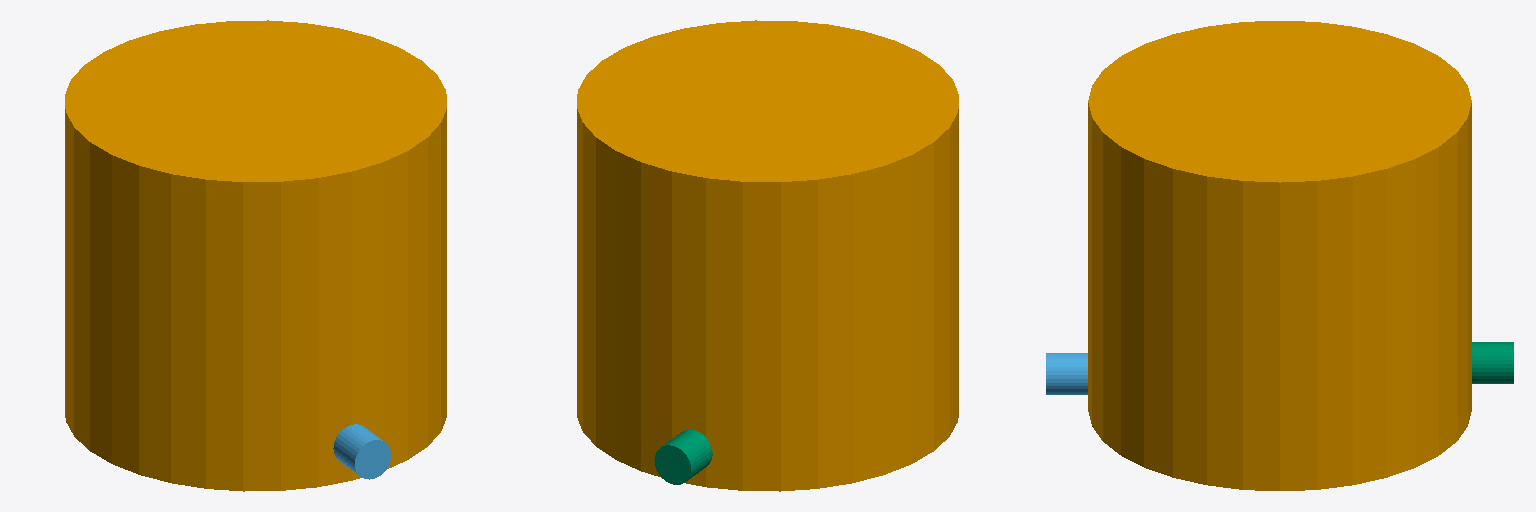
robot.urdf — [local-path]/Desktop/Robot.urdf:
<?xml version="1.0"?>
<robot name="[local-path]/Desktop/Robot.urdf" xmlns:xacro="http://ros.org/wiki/xacro">
  <link name="base_link">
    <visual>
      <origin xyz="0 0 0.415" rpy="0 0 0"/>
      <geometry>
        <cylinder radius="0.45" length="0.8"/>
      </geometry>
    </visual>
    <collision>
      <origin xyz="0 0 0.415" rpy="0 0 0"/>
      <geometry>
        <cylinder radius="0.45" length="0.8"/>
      </geometry>
    </collision>
  </link>
  <joint name="motor2" type="continuous">
    <parent link="base_link"/>
    <child link="solid(1)"/>
    <axis xyz="-0.000005 1 -0.000002"/>
    <limit effort="10" velocity="10"/>
    <origin xyz="0 -0.5 0.05" rpy="-1.885625 1.570791 2.826762"/>
  </joint>
  <link name="solid(1)">
    <visual>
      <origin xyz="-0.06 0 0" rpy="0 0 0"/>
      <geometry>
        <cylinder radius="0.05" length="0.1"/>
      </geometry>
    </visual>
    <collision>
      <origin xyz="-0.06 0 0" rpy="0 0 0"/>
      <geometry>
        <cylinder radius="0.05" length="0.1"/>
      </geometry>
    </collision>
  </link>
  <joint name="motor1" type="continuous">
    <parent link="base_link"/>
    <child link="solid"/>
    <axis xyz="-0.000005 1 -0.000002"/>
    <limit effort="10" velocity="10"/>
    <origin xyz="-0.06 0.5 0.05" rpy="-1.885625 1.570791 2.826762"/>
  </joint>
  <link name="solid">
    <visual>
      <origin xyz="-0.06 0 0" rpy="0 0 0"/>
      <geometry>
        <cylinder radius="0.05" length="0.1"/>
      </geometry>
    </visual>
    <collision>
      <origin xyz="-0.06 0 0" rpy="0 0 0"/>
      <geometry>
        <cylinder radius="0.05" length="0.1"/>
      </geometry>
    </collision>
  </link>
</robot>

--- Render facts (derived) ---
Views: 3 orthographic renders of the robot side by side, from view 1: azimuth 30°, elevation 25°; view 2: azimuth 150°, elevation 25°; view 3: azimuth 270°, elevation 25°.
Robot: [local-path]/Desktop/Robot.urdf — 3 links, 2 joints (2 continuous); root link base_link; default pose: every joint at zero.
Visible links, largest first — view 1: base_link, solid(1); view 2: base_link, solid; view 3: base_link, solid(1), solid.
Link boxes in pixels (x1,y1,x2,y2): base_link: [65, 20, 446, 491]; solid(1): [333, 424, 391, 479]; base_link: [577, 20, 958, 491]; solid: [654, 430, 712, 484]; base_link: [1088, 21, 1471, 490]; solid(1): [1046, 353, 1087, 394]; solid: [1472, 342, 1513, 383].
Size in the robot's own frame: 0.9 by 1.1 by 0.8 metres.
Geometry: primitives only (box / cylinder / sphere), no mesh files.
